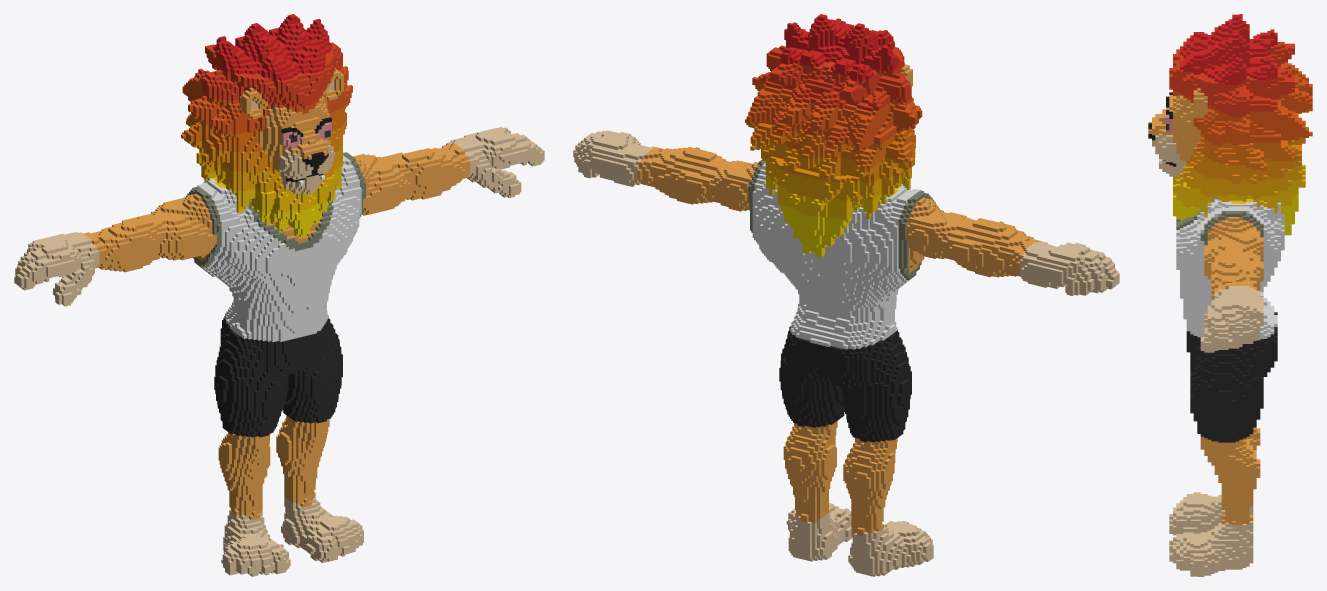
Rendered from 742-B32ScvMB.glb.
3 views of the same model, side by side, from view 1: azimuth 30°, elevation 25°; view 2: azimuth 150°, elevation 25°; view 3: azimuth 270°, elevation 25° (orthographic). The views are drawn at different scales.
Visible parts, largest first — view 1: standard; view 2: standard; view 3: standard.
Boxes of the visible parts, x1,y1,x2,y2 form: standard: (14, 14, 544, 576); standard: (573, 14, 1119, 576); standard: (1148, 14, 1312, 576).
Size of the model in its own units: 17.2 by 16.5 by 4.7.
5 materials, 5 textured.
